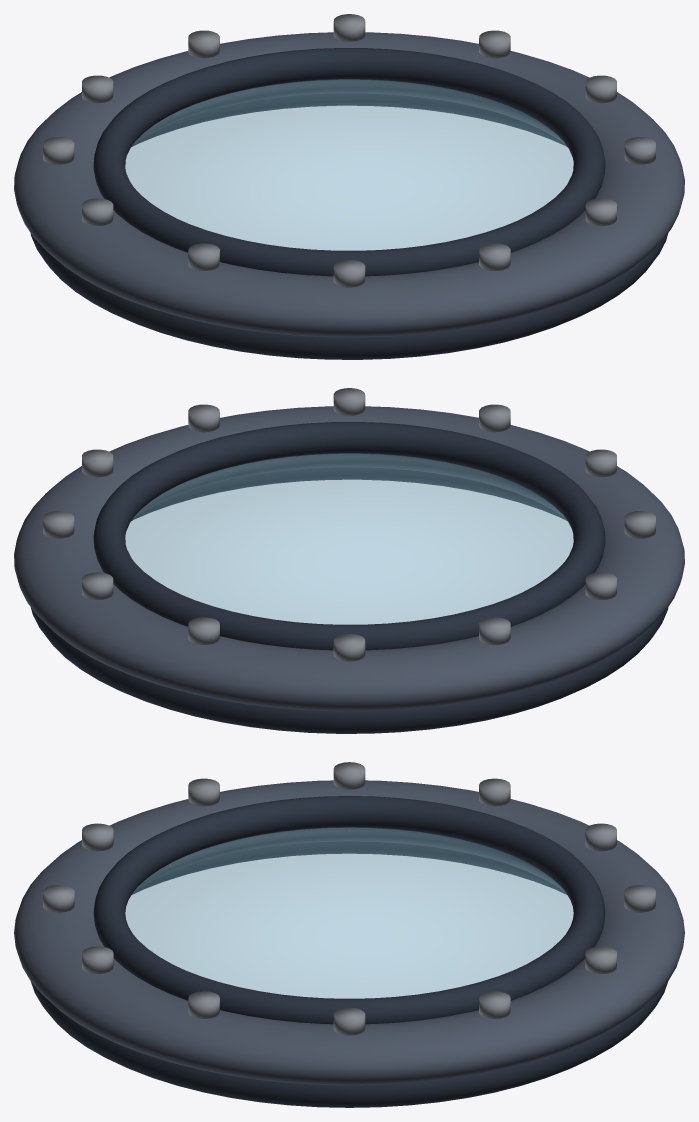
The model's file is circular window.glb.
3 renders of one model, top to bottom at view 1: azimuth 30°, elevation 25°; view 2: azimuth 150°, elevation 25°; view 3: azimuth 270°, elevation 25°, orthographic.
Visible parts, largest first — view 1: Window_OuterFrame, Window_Glass, Window_InnerRing, Window_BackCollar, Window_Bolt_02, Window_Bolt_08, Window_Bolt_03, Window_Bolt_01, Window_Bolt_00, Window_Bolt_04, Window_Bolt_05, Window_Bolt_06 (+4 smaller); view 2: Window_OuterFrame, Window_Glass, Window_InnerRing, Window_BackCollar, Window_Bolt_10, Window_Bolt_04, Window_Bolt_09, Window_Bolt_11, Window_Bolt_00, Window_Bolt_08, Window_Bolt_01, Window_Bolt_06 (+4 smaller); view 3: Window_OuterFrame, Window_Glass, Window_InnerRing, Window_BackCollar, Window_Bolt_06, Window_Bolt_00, Window_Bolt_05, Window_Bolt_07, Window_Bolt_02, Window_Bolt_10, Window_Bolt_01, Window_Bolt_04 (+4 smaller).
Part boxes in pixels (<box>): Window_OuterFrame: <box>14,32,684,337</box>; Window_Glass: <box>125,79,573,250</box>; Window_InnerRing: <box>93,48,605,276</box>; Window_BackCollar: <box>30,93,668,359</box>; Window_Bolt_02: <box>333,14,365,41</box>; Window_Bolt_08: <box>333,260,365,287</box>; Window_Bolt_03: <box>188,30,219,58</box>; Window_Bolt_01: <box>479,30,510,58</box>; Window_Bolt_00: <box>585,75,616,103</box>; Window_Bolt_04: <box>82,75,113,103</box>; Window_Bolt_05: <box>43,137,74,164</box>; Window_Bolt_06: <box>82,198,113,225</box>; Window_OuterFrame: <box>14,406,684,711</box>; Window_Glass: <box>125,453,573,624</box>; Window_InnerRing: <box>93,422,605,650</box>; Window_BackCollar: <box>30,467,668,733</box>; Window_Bolt_10: <box>333,388,365,415</box>; Window_Bolt_04: <box>333,634,365,661</box>; Window_Bolt_09: <box>479,404,510,432</box>; Window_Bolt_11: <box>188,404,219,432</box>; Window_Bolt_00: <box>82,449,113,477</box>; Window_Bolt_08: <box>585,449,616,477</box>; Window_Bolt_01: <box>43,511,74,538</box>; Window_Bolt_06: <box>585,572,616,599</box>; Window_OuterFrame: <box>14,780,684,1085</box>; Window_Glass: <box>125,827,573,998</box>; Window_InnerRing: <box>93,796,605,1024</box>; Window_BackCollar: <box>31,841,667,1107</box>; Window_Bolt_06: <box>333,762,365,789</box>; Window_Bolt_00: <box>333,1007,365,1035</box>; Window_Bolt_05: <box>479,778,510,806</box>; Window_Bolt_07: <box>188,778,219,806</box>; Window_Bolt_02: <box>585,946,616,974</box>; Window_Bolt_10: <box>82,946,113,974</box>; Window_Bolt_01: <box>479,991,510,1018</box>; Window_Bolt_04: <box>585,823,616,851</box>.
Size of the model in its own units: 2.32 by 0.3325 by 2.32.
